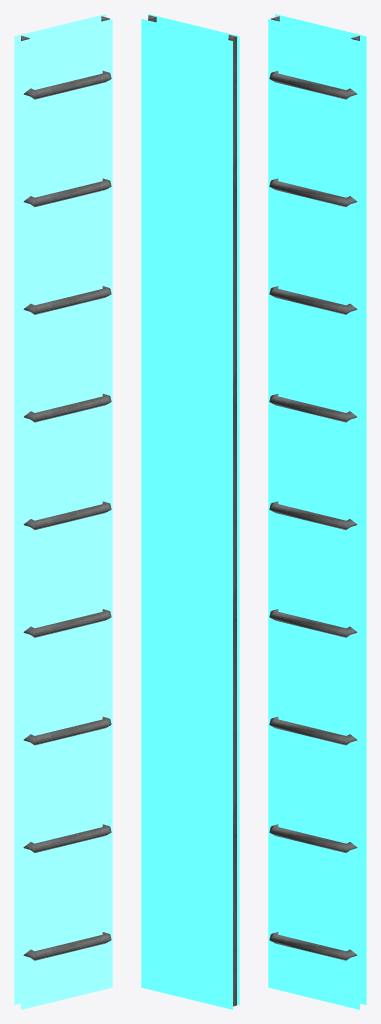
The model's file is yt1300_ladder_l2.fbx.
3 renders of one model, left to right at view 1: azimuth 30°, elevation 25°; view 2: azimuth 150°, elevation 25°; view 3: azimuth 330°, elevation 25°, orthographic.
Visible parts, largest first — view 1: mesh_node; view 2: mesh_node; view 3: mesh_node.
Part boxes in pixels (box(x1,y1,x2,y2)): mesh_node: box(14, 14, 112, 1009); mesh_node: box(141, 14, 239, 1009); mesh_node: box(268, 14, 366, 1009).
Size of the model in its own units: 0.5345 by 5.4 by 0.1297.
2 materials, 1 textured.
